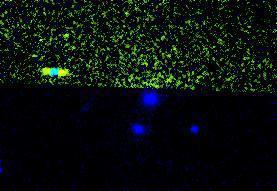star: (51, 21, 81, 51)
